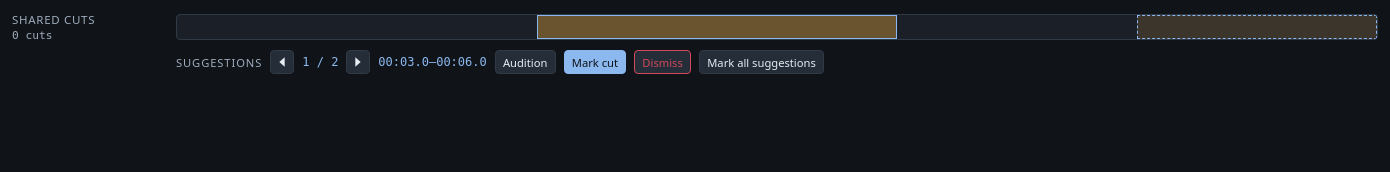
it: cut lane review › steps through suggestions and auditions each one
Click the button named "Next suggestion": click(358, 62) [346,50,370,74]
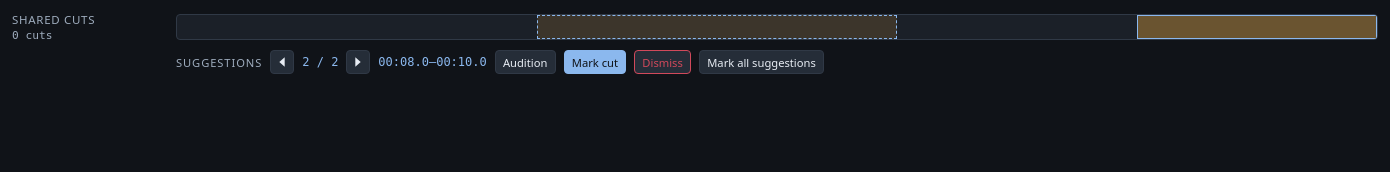
Now the text "2 / 2" is shown, box [302,55,338,69]
Click the button named "Previous suggestion": click(282, 62) [270,50,294,74]
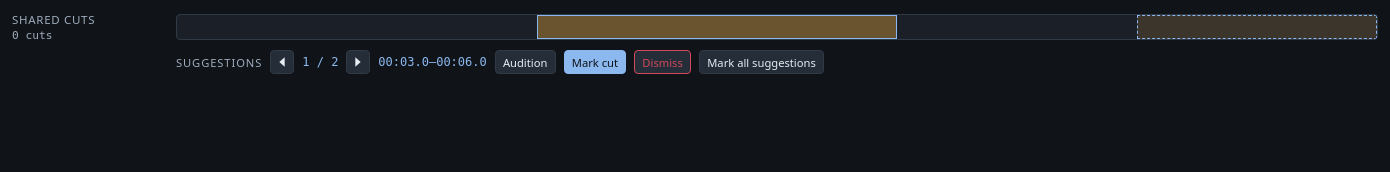
Now the text "1 / 2" is shown, box [302,55,338,69]
